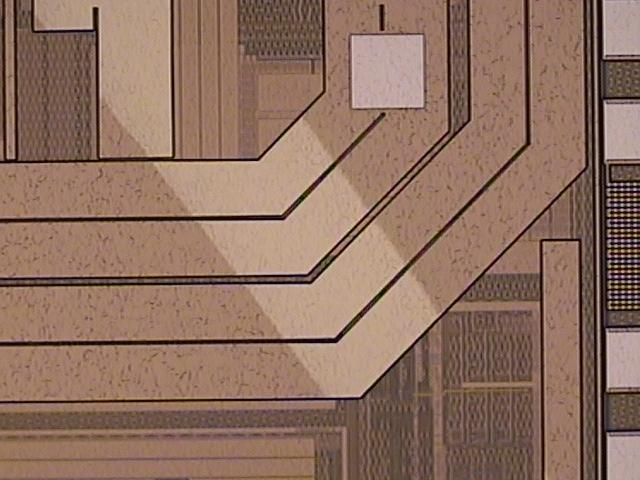COATING BAD: (6, 1, 487, 480)
